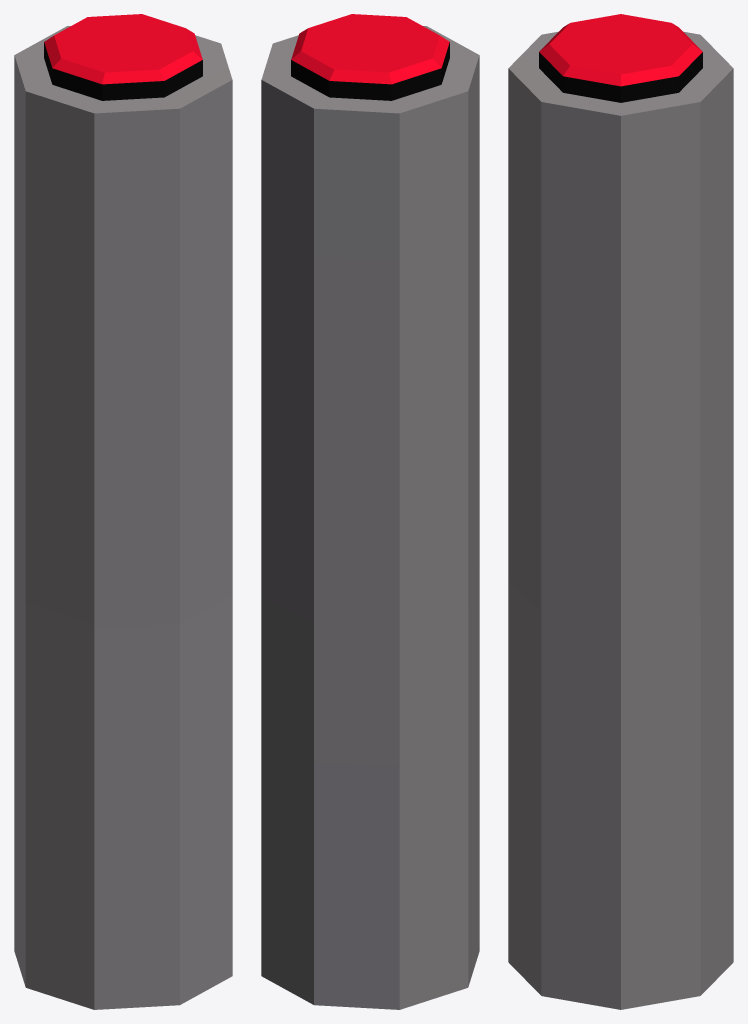
File: Ball_Tower.fbx
3 renders of one model, left to right at view 1: azimuth 30°, elevation 25°; view 2: azimuth 150°, elevation 25°; view 3: azimuth 270°, elevation 25°, orthographic.
Visible parts, largest first — view 1: Ball_Tower; view 2: Ball_Tower; view 3: Ball_Tower.
Boxes of the visible parts, <box> form: Ball_Tower: <box>14,14,232,1009</box>; Ball_Tower: <box>261,14,479,1009</box>; Ball_Tower: <box>508,14,733,1009</box>.
Size of the model in its own units: 20 by 90 by 20.
1 material, 1 textured.
